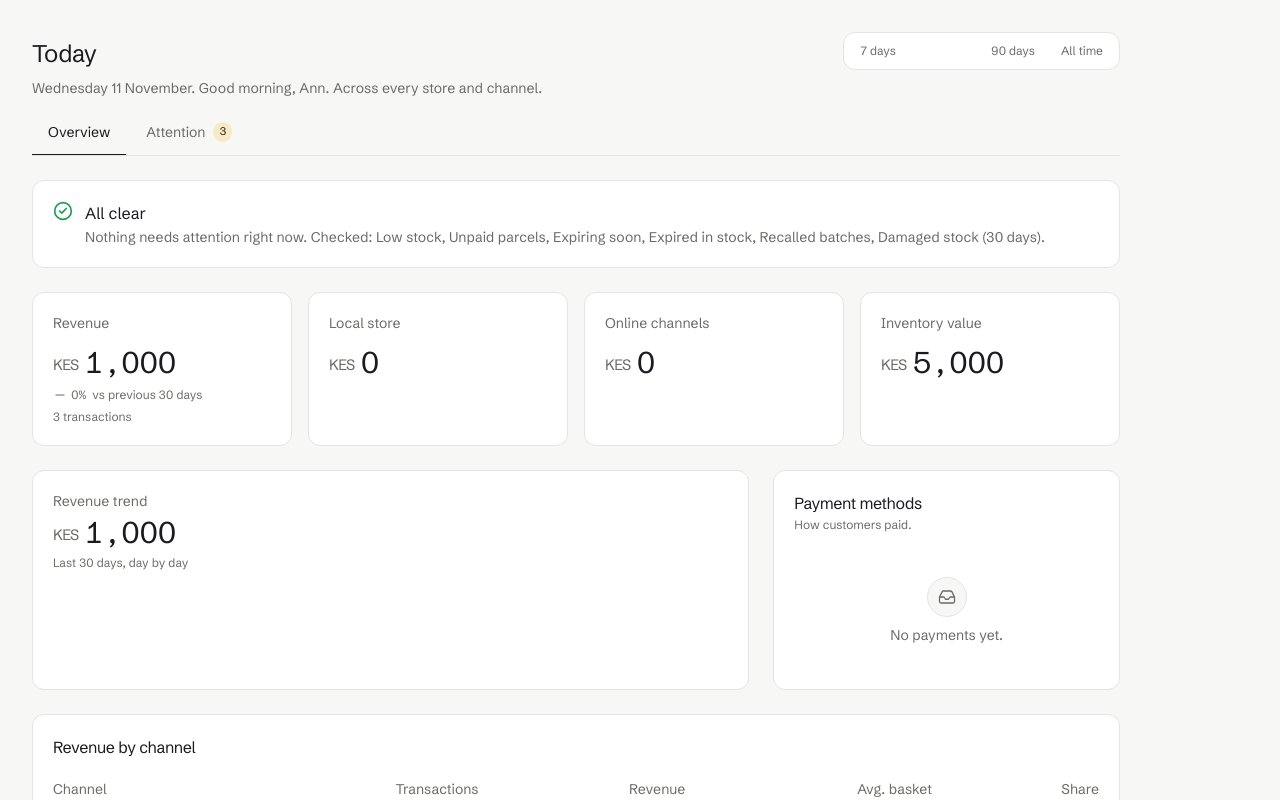
Test: Dashboard as Today › shows the queue on Attention, in place of the KPIs, and goes back
Expected: the text "Revenue" is shown, [53,314,109,332]
Step 1. Click the tab "Attention 3" → (189, 133), box [130,110,248,156]
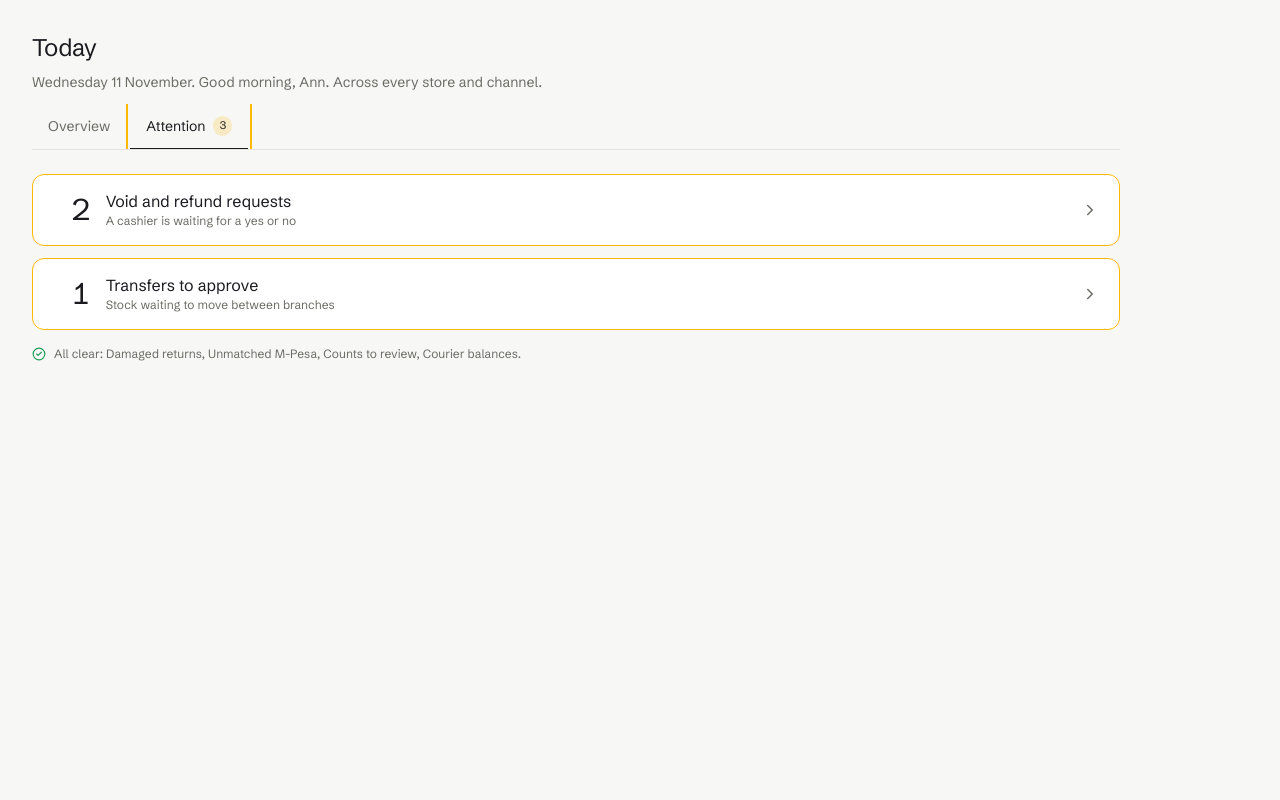
Expected: the text "Revenue trend" is gone
Step 2. Click the tab "Overview" → (79, 127), box [32,104,126,150]
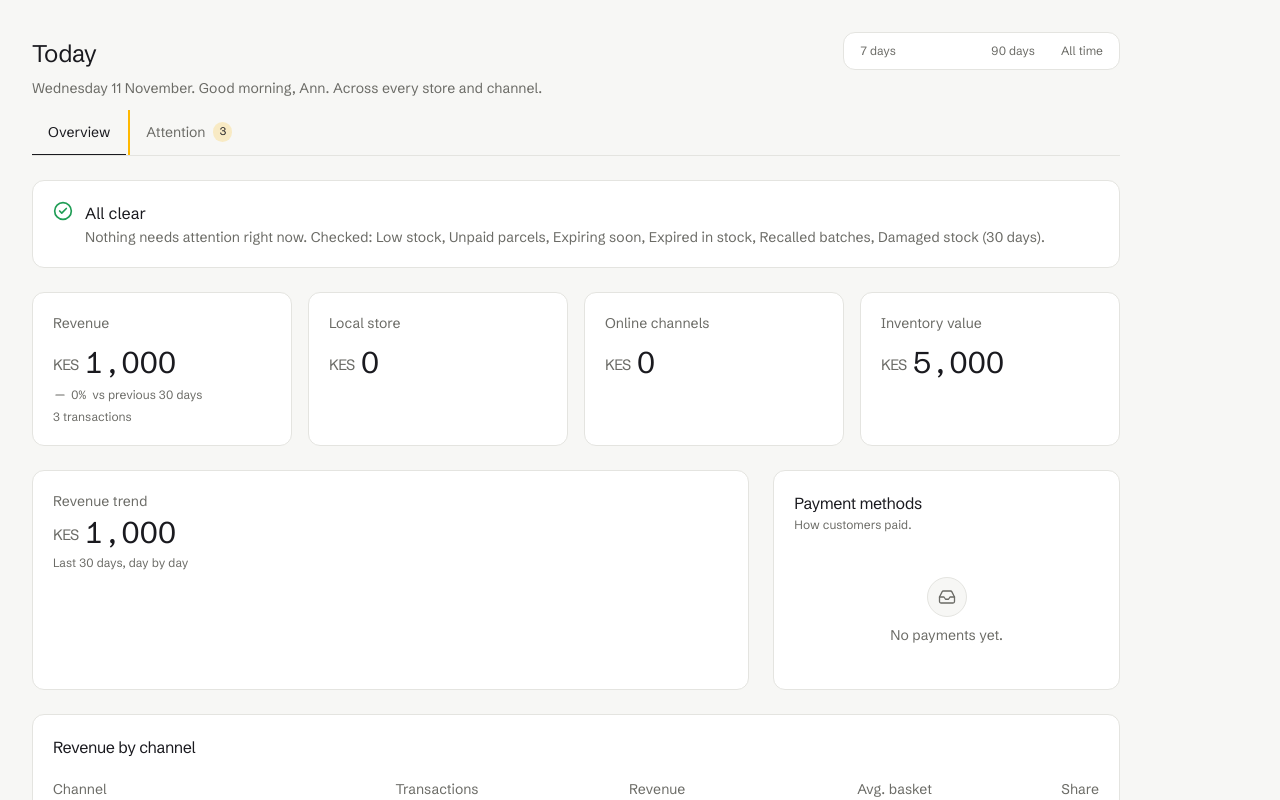
Expected: the text "Revenue trend" is shown, [53,492,147,510]
